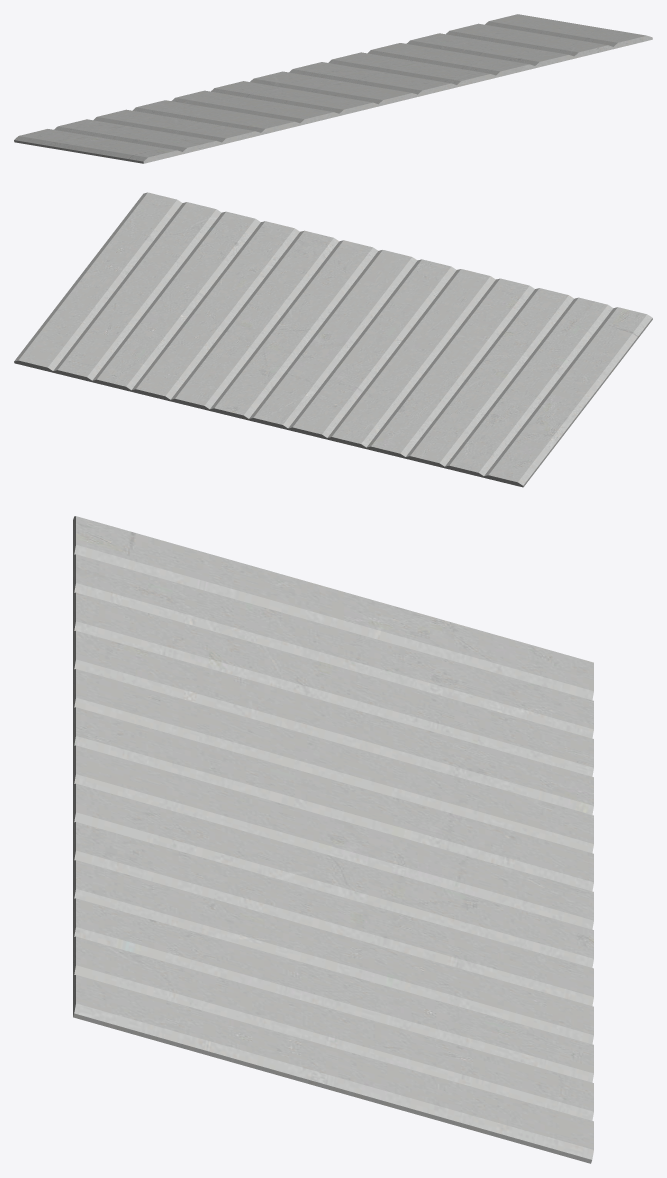
Rendered from Roof2.FBX.
3 renders of one model, top to bottom at view 1: azimuth 30°, elevation 25°; view 2: azimuth 150°, elevation 25°; view 3: azimuth 270°, elevation 25°, orthographic. The views are drawn at different scales.
Visible parts, largest first — view 1: Roof2; view 2: Roof2; view 3: Roof2.
Part boxes in pixels (bbox=[...]): Roof2: bbox=[14, 14, 652, 163]; Roof2: bbox=[14, 192, 652, 487]; Roof2: bbox=[73, 516, 593, 1163].
Bounding box in the file's own units: 2600 × 1152 × 380.
